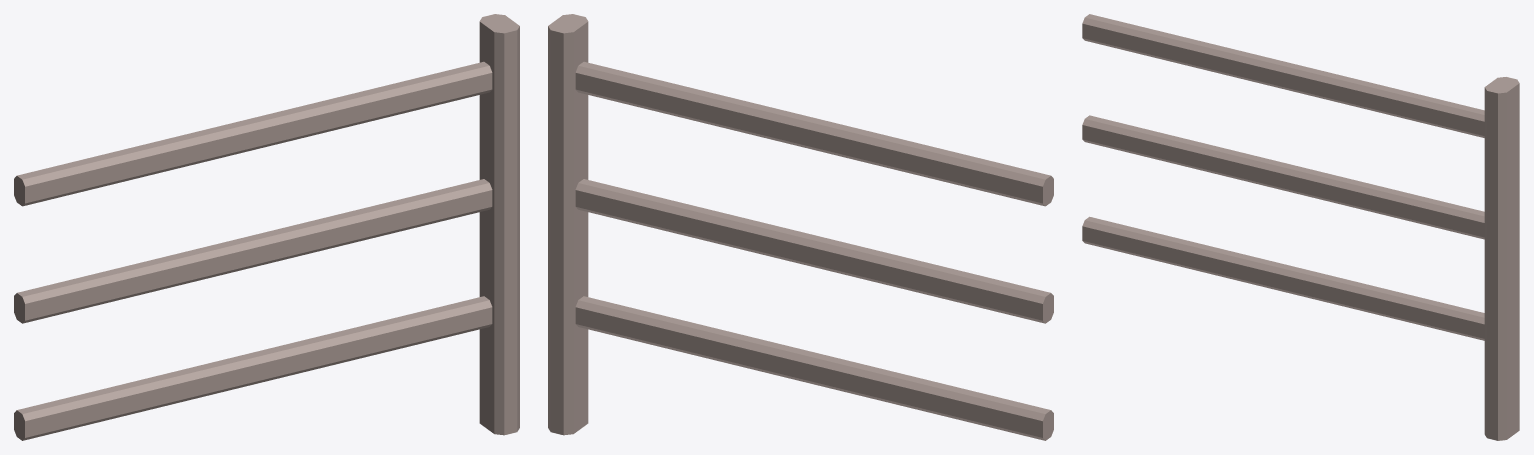
The model's file is 1023_fence_connect.glb.
3 views of the same model, side by side, from view 1: azimuth 30°, elevation 25°; view 2: azimuth 150°, elevation 25°; view 3: azimuth 330°, elevation 25° (orthographic). The views are drawn at different scales.
Visible parts, largest first — view 1: Body; view 2: Body; view 3: Body.
Part boxes in pixels (x1,y1,x2,y2): Body: [14, 14, 519, 440]; Body: [548, 14, 1053, 440]; Body: [1082, 14, 1519, 440].
Size of the model in its own units: 1.54 by 1.2 by 0.12.
